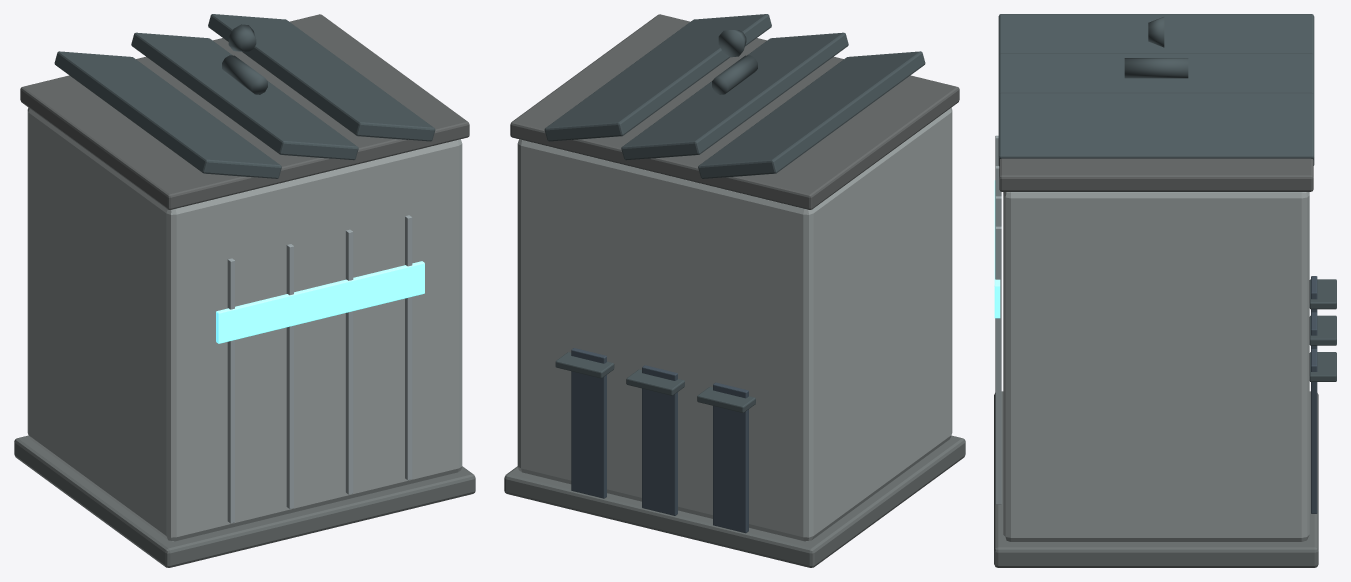
Rendered from industrial_sawtooth_factory.glb.
The picture shows the model from 3 angles, left to right: view 1: azimuth 30°, elevation 25°; view 2: azimuth 150°, elevation 25°; view 3: azimuth 270°, elevation 25°; orthographic projection. The views are drawn at different scales.
Parts seen in each view (by area): view 1: main_massing, roof_slab, foundation, sawtooth_roof, sawtooth_roof.002, sawtooth_roof.001, industrial_window_strip, cladding_rib.002, cladding_rib.003, cladding_rib, cladding_rib.001, roof_vent (+1 smaller); view 2: main_massing, roof_slab, foundation, sawtooth_roof, sawtooth_roof.002, sawtooth_roof.001, loading_door.001, loading_door, loading_door.002, roof_vent, loading_canopy.002, loading_canopy (+2 smaller); view 3: main_massing, sawtooth_roof.002, sawtooth_roof, sawtooth_roof.001, roof_slab, foundation, cladding_rib.003, roof_vent, loading_door.002, loading_canopy, loading_canopy.001, loading_canopy.002 (+2 smaller).
Boxes of the visible parts, box(x1,y1,x2,y2) form: main_massing: box(27, 107, 462, 541); roof_slab: box(20, 14, 469, 209); foundation: box(14, 435, 475, 567); sawtooth_roof: box(54, 51, 281, 178); sawtooth_roof.002: box(208, 14, 435, 141); sawtooth_roof.001: box(131, 32, 358, 160); industrial_window_strip: box(216, 261, 424, 343); cladding_rib.002: box(345, 229, 353, 494); cladding_rib.003: box(405, 215, 412, 480); cladding_rib: box(227, 258, 234, 523); cladding_rib.001: box(286, 244, 293, 508); roof_vent: box(222, 55, 267, 94); main_massing: box(517, 107, 952, 541); roof_slab: box(510, 14, 959, 209); foundation: box(504, 435, 965, 567); sawtooth_roof: box(698, 51, 925, 178); sawtooth_roof.002: box(544, 14, 771, 141); sawtooth_roof.001: box(621, 32, 848, 160); loading_door.001: box(642, 365, 677, 515); loading_door: box(713, 382, 748, 533); loading_door.002: box(571, 348, 606, 498); roof_vent: box(712, 55, 757, 94); loading_canopy.002: box(555, 352, 614, 378); loading_canopy: box(697, 386, 755, 412); main_massing: box(1003, 192, 1309, 541); sawtooth_roof.002: box(998, 92, 1314, 165); sawtooth_roof: box(998, 14, 1314, 55); sawtooth_roof.001: box(998, 53, 1314, 94); roof_slab: box(999, 158, 1313, 191); foundation: box(994, 391, 1318, 567); cladding_rib.003: box(995, 226, 1001, 504); roof_vent: box(1124, 58, 1188, 78); loading_door.002: box(1311, 349, 1317, 513); loading_canopy: box(1309, 279, 1336, 309); loading_canopy.001: box(1309, 315, 1336, 345); loading_canopy.002: box(1309, 352, 1336, 381).
Size of the model in its own units: 1.66 by 2.29 by 1.51.
